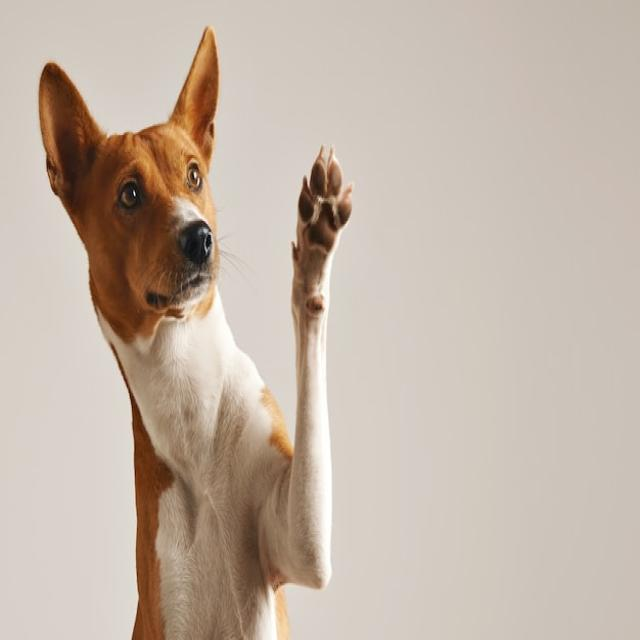Dog: (37, 24, 355, 640)
